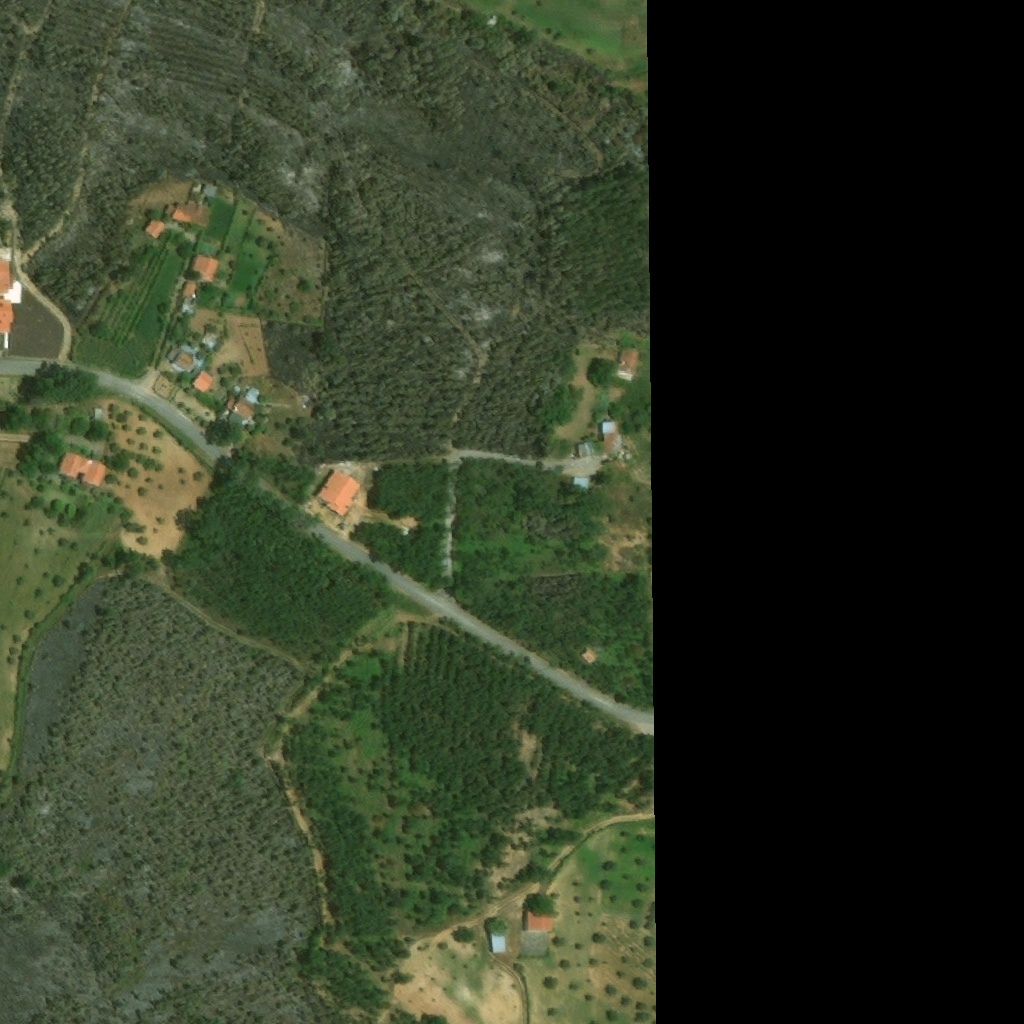0 no-damage: (315, 472, 360, 519), (164, 182, 210, 227), (58, 451, 108, 488), (574, 423, 620, 460), (224, 396, 259, 432), (167, 345, 206, 372), (191, 251, 221, 285), (614, 349, 639, 382), (523, 908, 554, 933), (191, 370, 216, 395), (179, 283, 196, 317), (205, 382, 229, 405), (146, 218, 167, 241), (489, 931, 507, 955), (244, 388, 262, 407), (571, 477, 589, 490), (202, 184, 215, 198), (96, 410, 103, 420)
4 un-classified: (0, 298, 14, 334), (0, 259, 12, 295)
